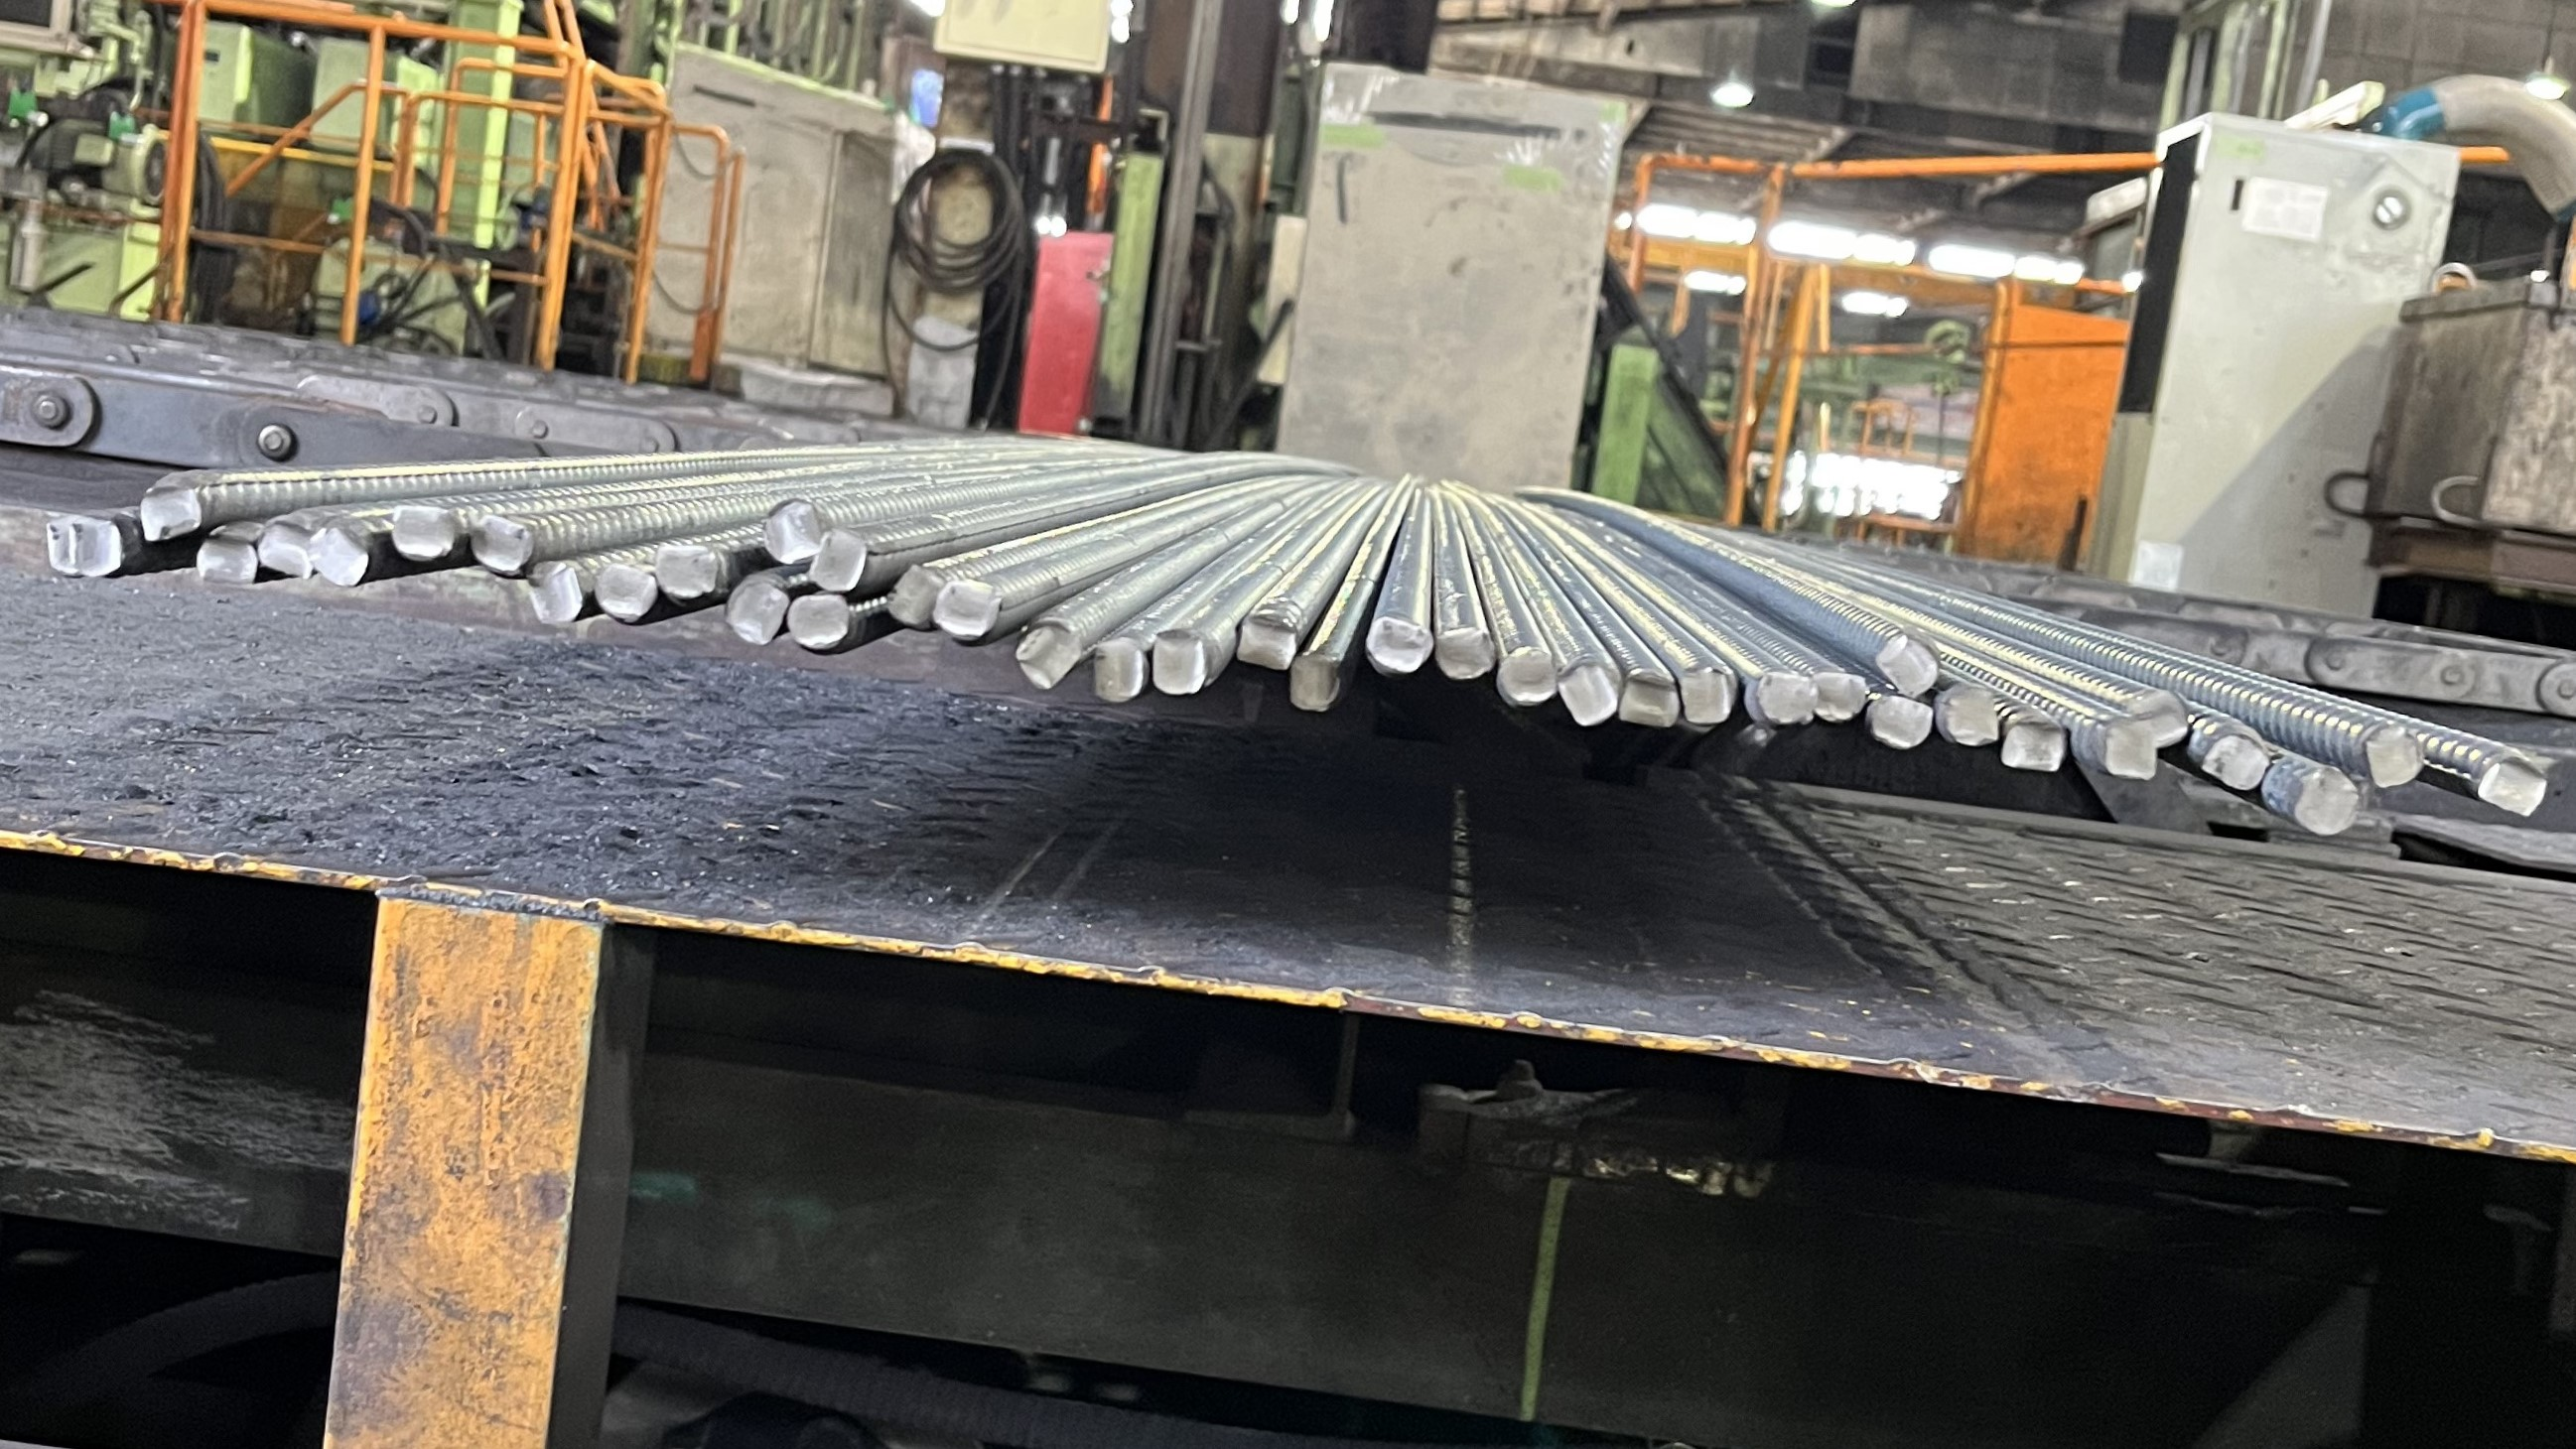rod: (2289, 764, 2362, 839), (1012, 621, 1083, 692), (2473, 755, 2549, 817), (1874, 626, 1941, 695), (722, 579, 787, 649), (1936, 678, 1999, 750), (1743, 672, 1819, 731), (2364, 724, 2427, 793), (931, 579, 1001, 640), (136, 478, 202, 543), (761, 497, 826, 563), (467, 511, 534, 575), (1150, 630, 1214, 697), (1557, 662, 1621, 727), (2127, 686, 2192, 750), (2100, 717, 2162, 784), (2204, 731, 2272, 793), (387, 502, 456, 563), (525, 559, 586, 628), (786, 591, 855, 651), (69, 511, 127, 582), (1865, 692, 1936, 750), (1997, 718, 2070, 775), (809, 529, 872, 593), (881, 564, 945, 628), (1677, 665, 1739, 731), (1364, 616, 1433, 674), (1235, 610, 1299, 672), (1493, 646, 1557, 708), (1617, 667, 1681, 729), (310, 522, 370, 587), (655, 540, 722, 598), (593, 563, 655, 625), (195, 533, 260, 589), (1092, 639, 1145, 704), (257, 520, 313, 580), (1286, 653, 1343, 711), (1812, 663, 1868, 722), (1431, 630, 1493, 679), (44, 515, 69, 575)
